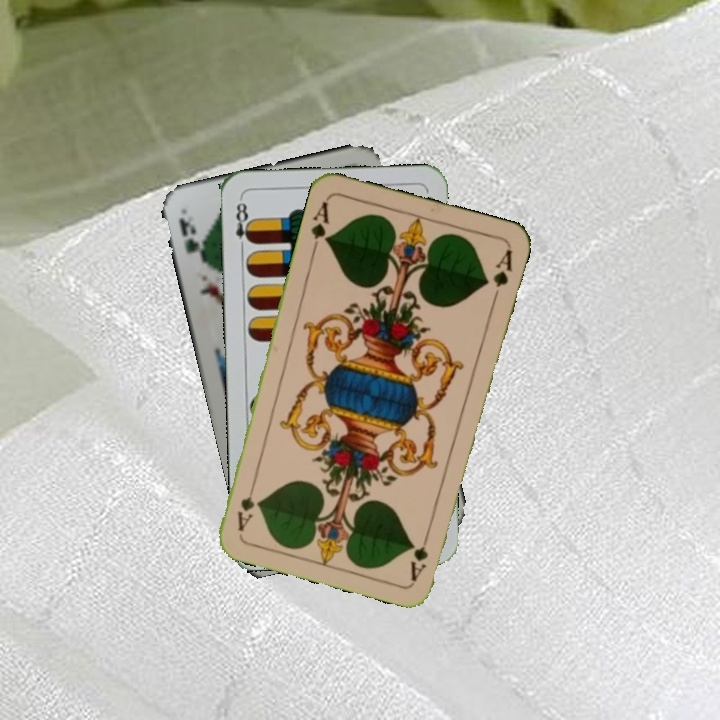E8: (232, 195, 255, 254)
GA: (406, 525, 434, 583), (307, 196, 332, 254)
GK: (174, 213, 208, 266)
